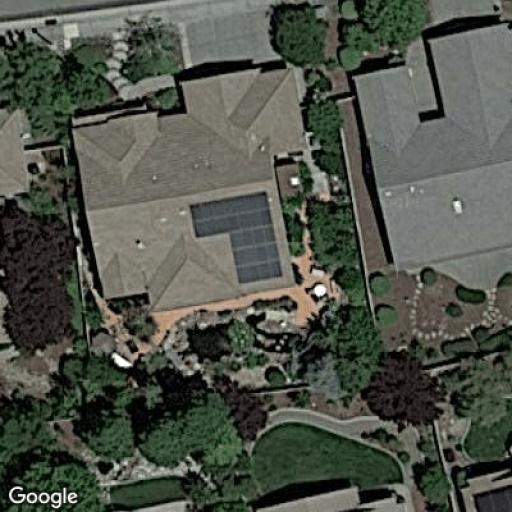solar-panel: (186, 191, 284, 285)
